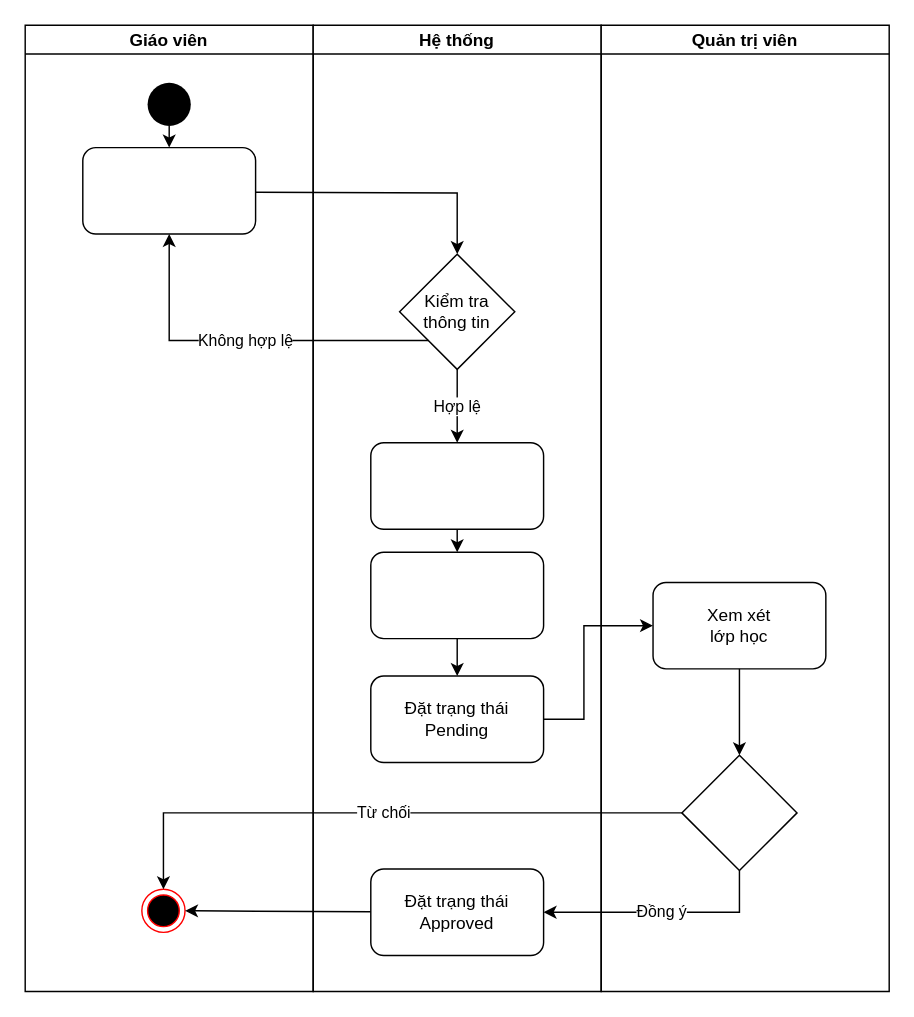
This 914x1017 diagram has some shape labels left out. The shapes that lost their labels are listed below. From the top down, each one's centre as x and y in pixels, then its label:
At point (168, 190): "Tạo lớp học mới".
At point (456, 485): "Lưu thông tin lớp học".
At point (456, 595): "Tạo mã lớp học".
At point (738, 812): "Phê duyệt?".
